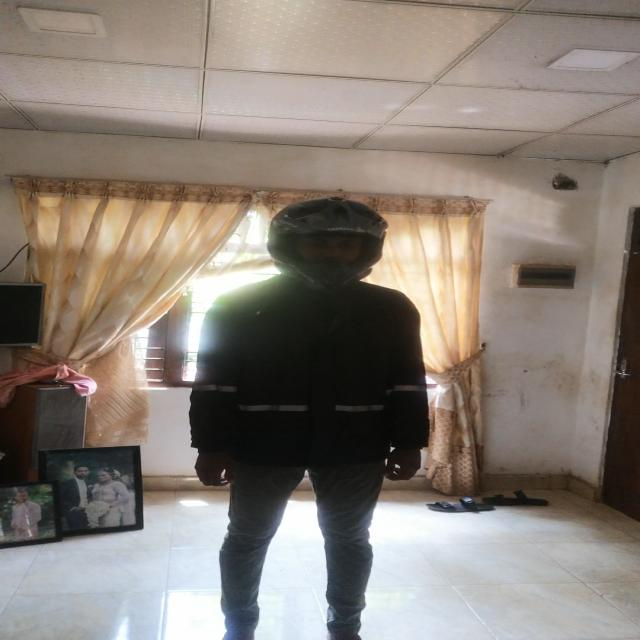Helmet_Wearer: (245, 200, 391, 291)
Jacket_Wearer: (190, 274, 432, 488)
Person: (180, 197, 444, 640)
